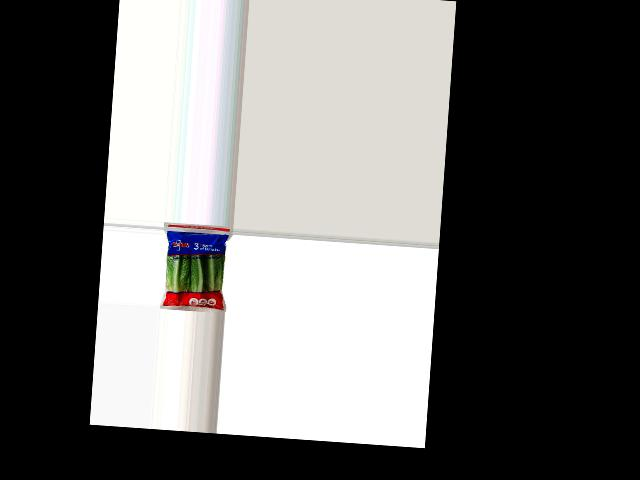lettuce: (158, 226, 229, 313)
